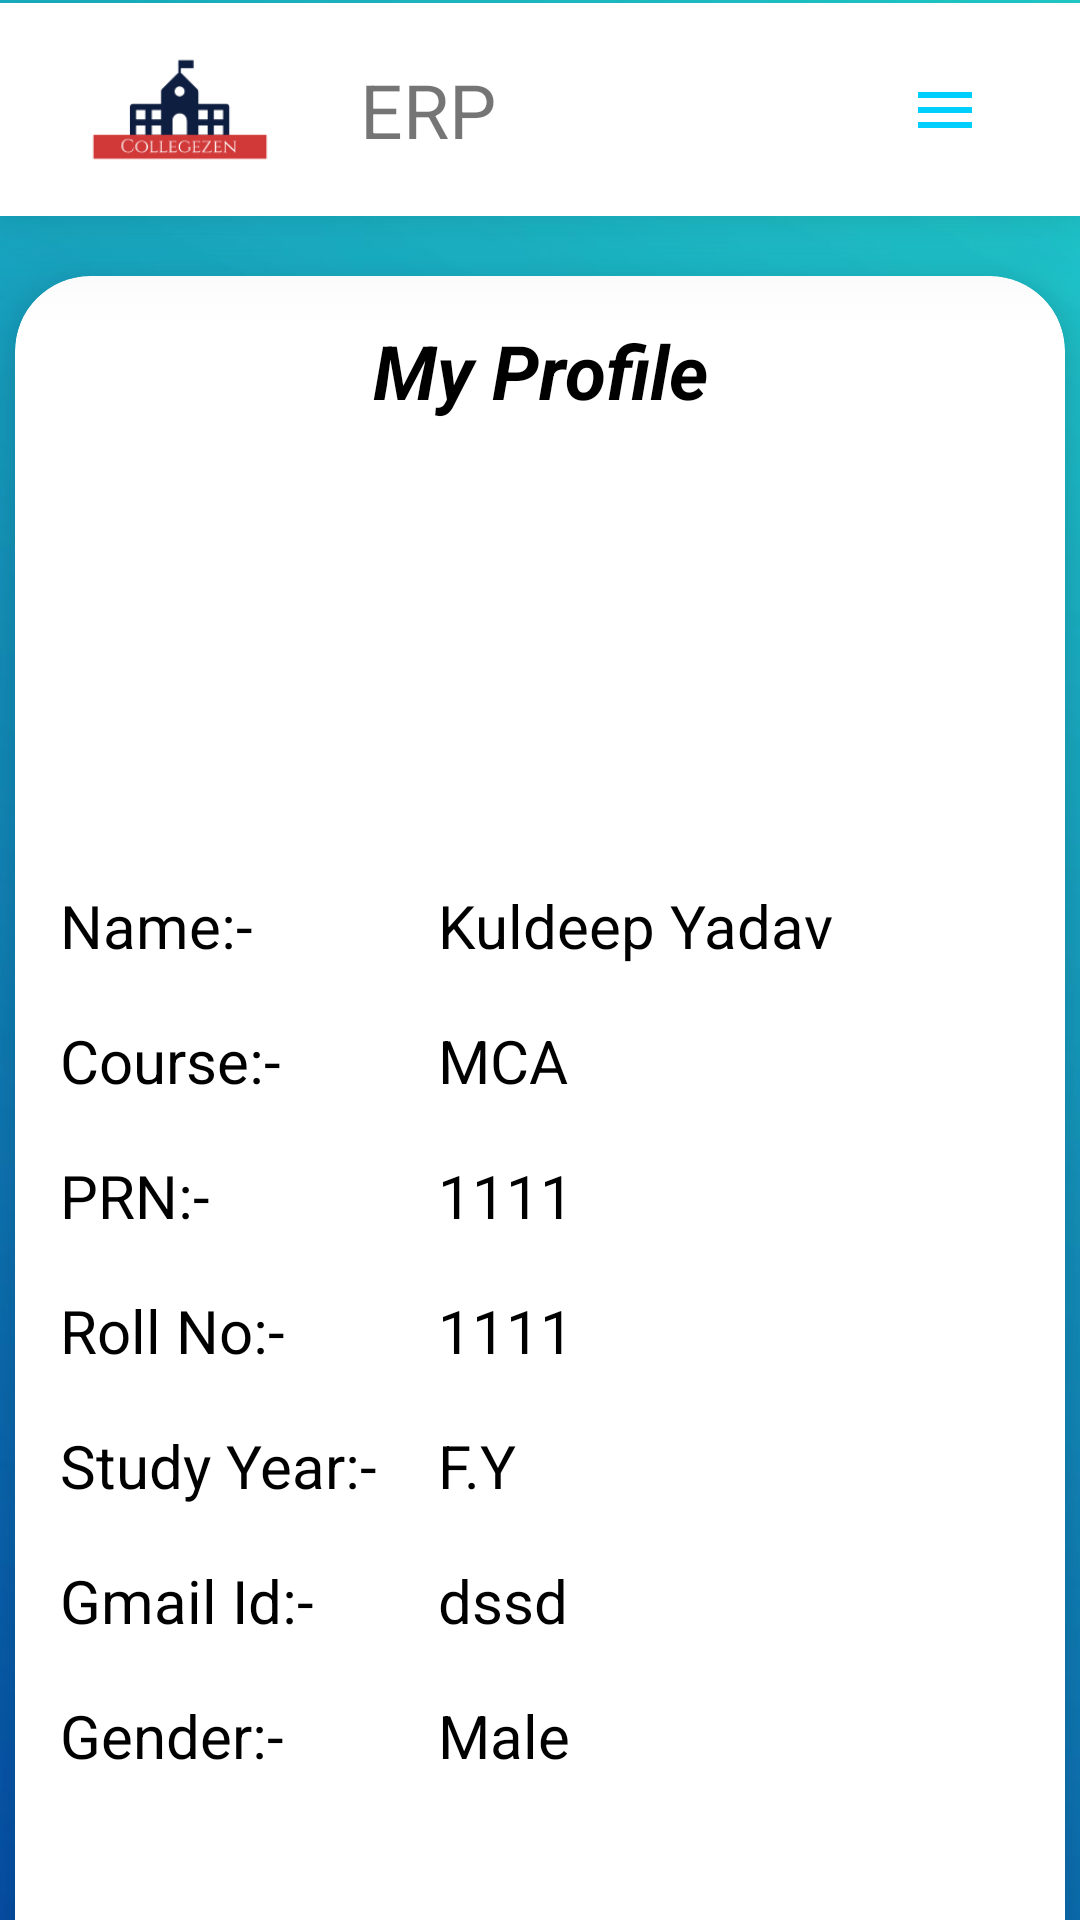

Named icons in this screenshot (1080×1920) and their centers, point (x, y):
menu: point (945, 110)
